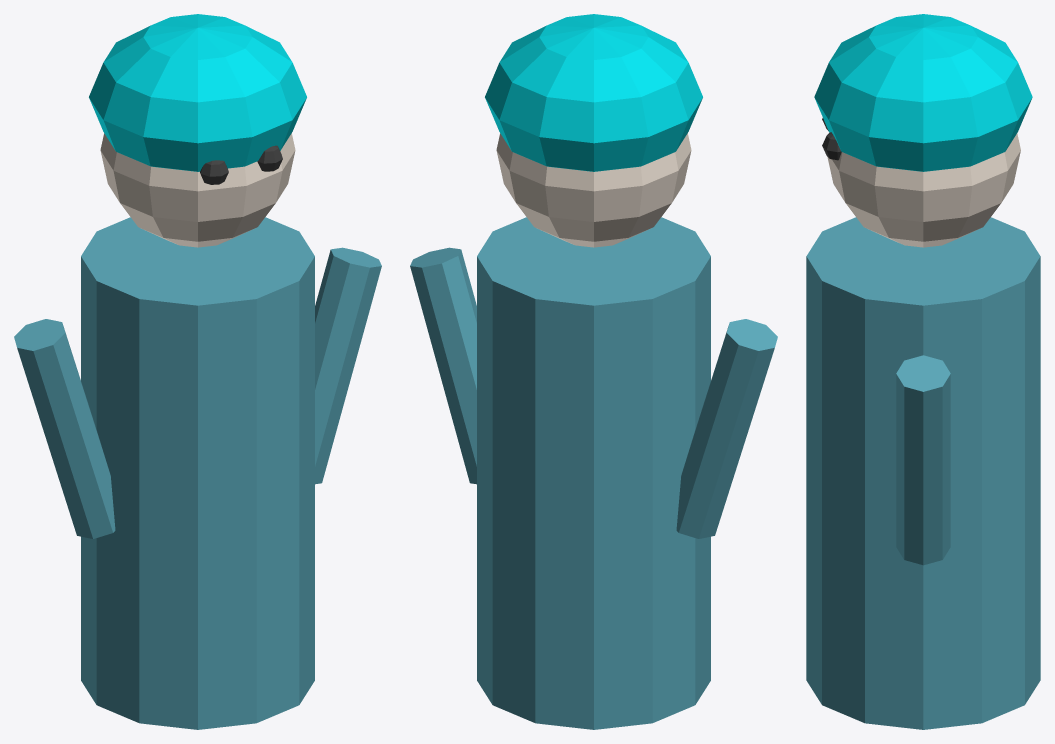
The model's file is hero_debussy.glb.
3 renders of one model, left to right at view 1: azimuth 30°, elevation 25°; view 2: azimuth 150°, elevation 25°; view 3: azimuth 270°, elevation 25°, orthographic.
Visible parts, largest first — view 1: hero_debussy_Body, hero_debussy_Wig, hero_debussy_Head, hero_debussy_Arm, hero_debussy_Arm.001; view 2: hero_debussy_Body, hero_debussy_Wig, hero_debussy_Head, hero_debussy_Arm, hero_debussy_Arm.001; view 3: hero_debussy_Body, hero_debussy_Wig, hero_debussy_Head, hero_debussy_Arm.001.
Part boxes in pixels (x1=…): hero_debussy_Body: x1=81, y1=217, x2=314, y2=729; hero_debussy_Wig: x1=89, y1=14, x2=306, y2=171; hero_debussy_Head: x1=100, y1=133, x2=295, y2=247; hero_debussy_Arm: x1=14, y1=319, x2=115, y2=538; hero_debussy_Arm.001: x1=315, y1=247, x2=381, y2=484; hero_debussy_Body: x1=477, y1=217, x2=710, y2=729; hero_debussy_Wig: x1=485, y1=14, x2=702, y2=171; hero_debussy_Head: x1=496, y1=133, x2=691, y2=247; hero_debussy_Arm: x1=676, y1=319, x2=777, y2=538; hero_debussy_Arm.001: x1=410, y1=247, x2=476, y2=484; hero_debussy_Body: x1=806, y1=217, x2=1040, y2=729; hero_debussy_Wig: x1=814, y1=14, x2=1032, y2=171; hero_debussy_Head: x1=827, y1=133, x2=1020, y2=247; hero_debussy_Arm.001: x1=896, y1=355, x2=950, y2=565.
Bounding box in the file's own units: 1.07 × 1.85 × 0.6.
